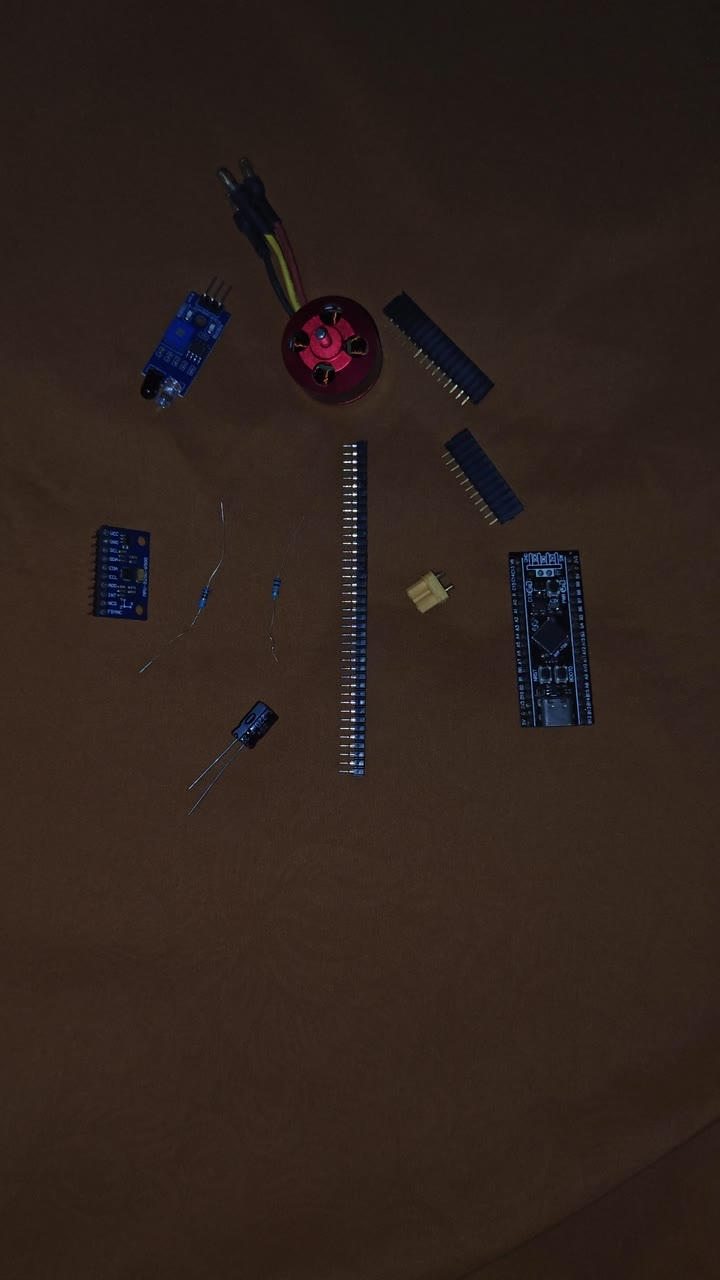bldc_motor: (259, 226, 385, 412)
elco_capacitor: (229, 711, 280, 750)
ir_sensor: (136, 286, 234, 413)
mpu6500: (69, 552, 179, 671)
pin_header: (322, 459, 406, 823), (376, 295, 516, 440), (426, 435, 558, 572)
resistor: (155, 523, 250, 724), (252, 534, 323, 722)
stm32f4: (511, 557, 586, 732)
xt30_female: (406, 579, 454, 614)
